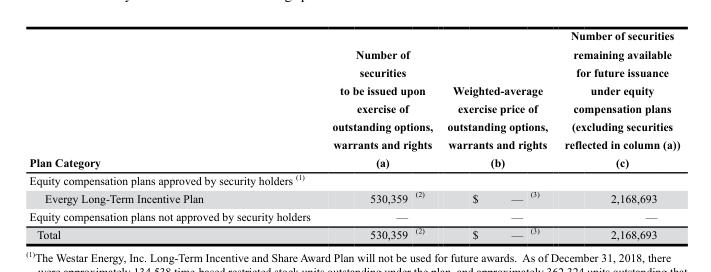table: (28, 29, 679, 240)
table column: (28, 29, 320, 240), (555, 29, 679, 240), (320, 29, 410, 240), (439, 29, 525, 240), (525, 29, 555, 240), (410, 29, 439, 240)
table column header: (28, 29, 679, 170)
table projected row header: (28, 170, 679, 188)
table row: (28, 29, 679, 170), (28, 188, 679, 207), (28, 170, 679, 188), (28, 207, 679, 224), (28, 224, 679, 240)
table spanning cell: (320, 29, 439, 170), (439, 29, 555, 170)
